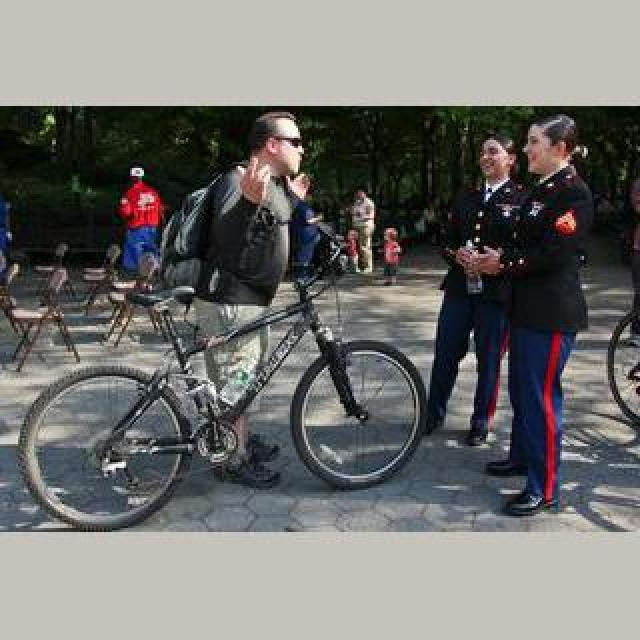MC-Bike: (162, 108, 306, 486), (474, 116, 592, 510), (420, 130, 522, 452), (112, 164, 170, 282), (288, 172, 324, 284), (348, 186, 378, 270), (382, 226, 402, 286)
Person: (26, 274, 432, 530)
